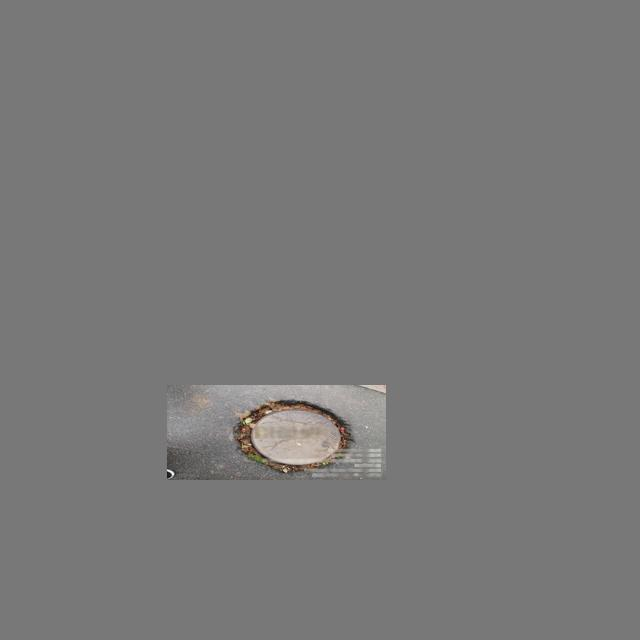circle: (233, 400, 356, 471)
